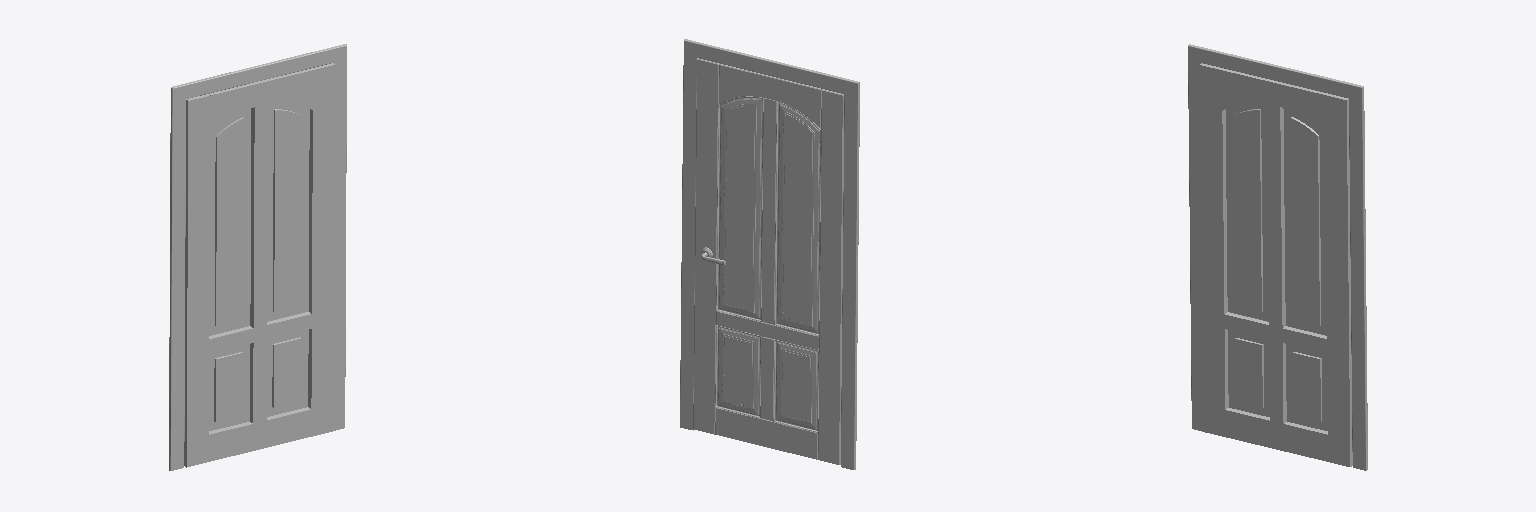
Rendered from Modern door.obj.
The picture shows the model from 3 angles: view 1: azimuth 30°, elevation 25°; view 2: azimuth 150°, elevation 25°; view 3: azimuth 330°, elevation 25°; orthographic projection.
Visible parts, largest first — view 1: Modern_door; view 2: Modern_door; view 3: Modern_door.
Boxes of the visible parts, box(x1,y1,x2,y2) form: Modern_door: box(169, 44, 346, 470); Modern_door: box(680, 39, 859, 469); Modern_door: box(1188, 44, 1367, 470).
Bounding box in the file's own units: 20.99 × 43.98 × 2.61.